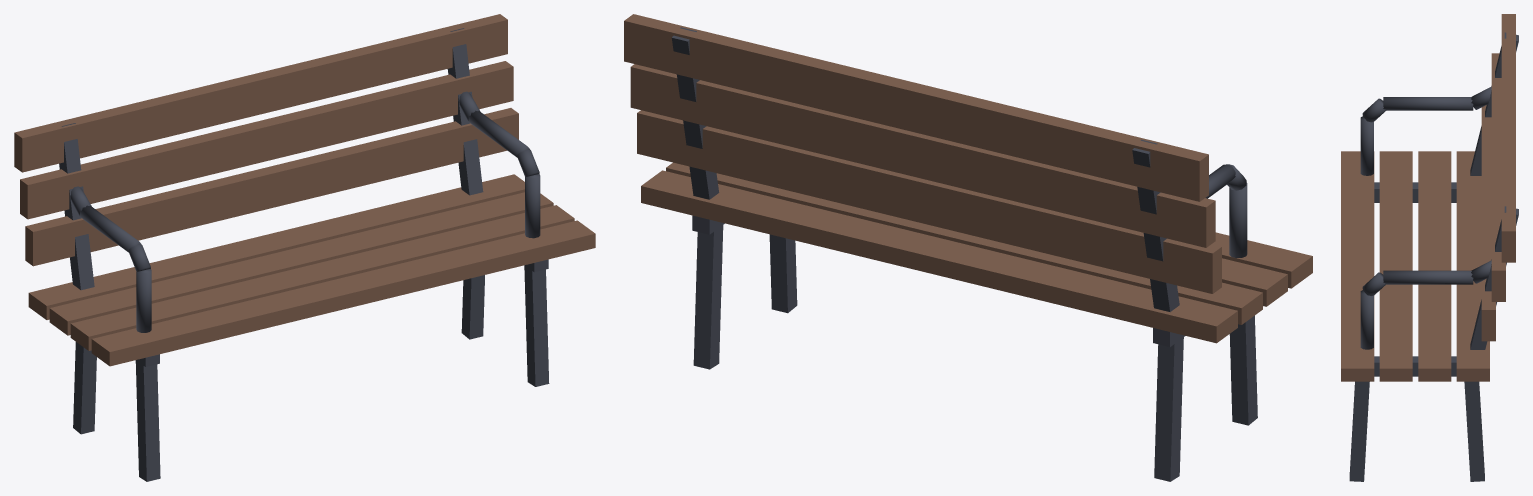
The model's file is SM_Cafe_Bench.fbx.
3 renders of one model, left to right at view 1: azimuth 30°, elevation 25°; view 2: azimuth 150°, elevation 25°; view 3: azimuth 270°, elevation 25°, orthographic. The views are drawn at different scales.
Visible parts, largest first — view 1: SM_Cafe_Bench; view 2: SM_Cafe_Bench; view 3: SM_Cafe_Bench.
Part boxes in pixels (<box>): SM_Cafe_Bench: <box>14,14,595,481</box>; SM_Cafe_Bench: <box>624,14,1312,481</box>; SM_Cafe_Bench: <box>1341,14,1518,481</box>.
Bounding box in the file's own units: 1.6 × 0.5534 × 0.9262.
